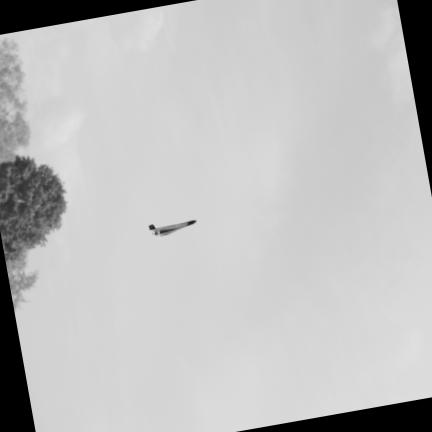Shahed: (149, 220, 195, 236)
